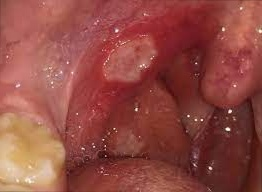Ulcer: (102, 34, 160, 83)
